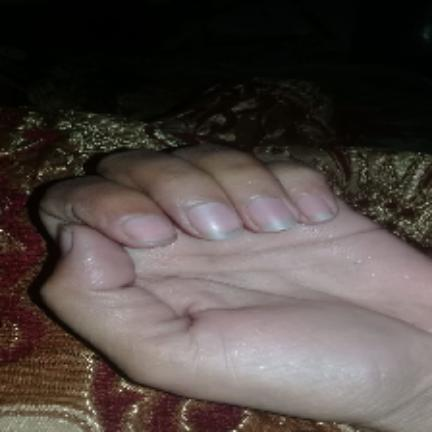Nail: (188, 201, 246, 241), (247, 196, 298, 232), (122, 215, 176, 245), (296, 194, 335, 223), (61, 230, 72, 257)
